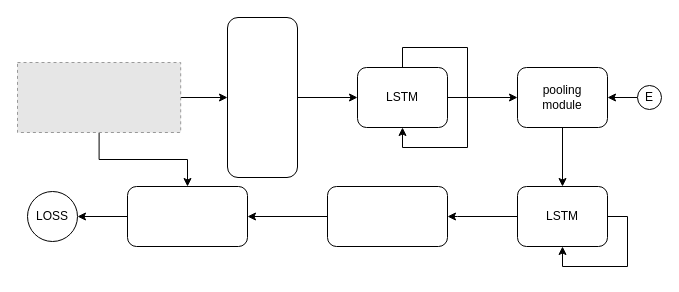
Image size: 679x292. Some labels were removed from this diagram. Grey dashed boxes stand in for pictures. The shapes that lost their labels are listed below. From the top down, each one's centre as x and y in pixels, then its label:
At pixel 262 97: "preprocess function".
At pixel 187 216: "Discriminator".
At pixel 387 216: "MLP".
